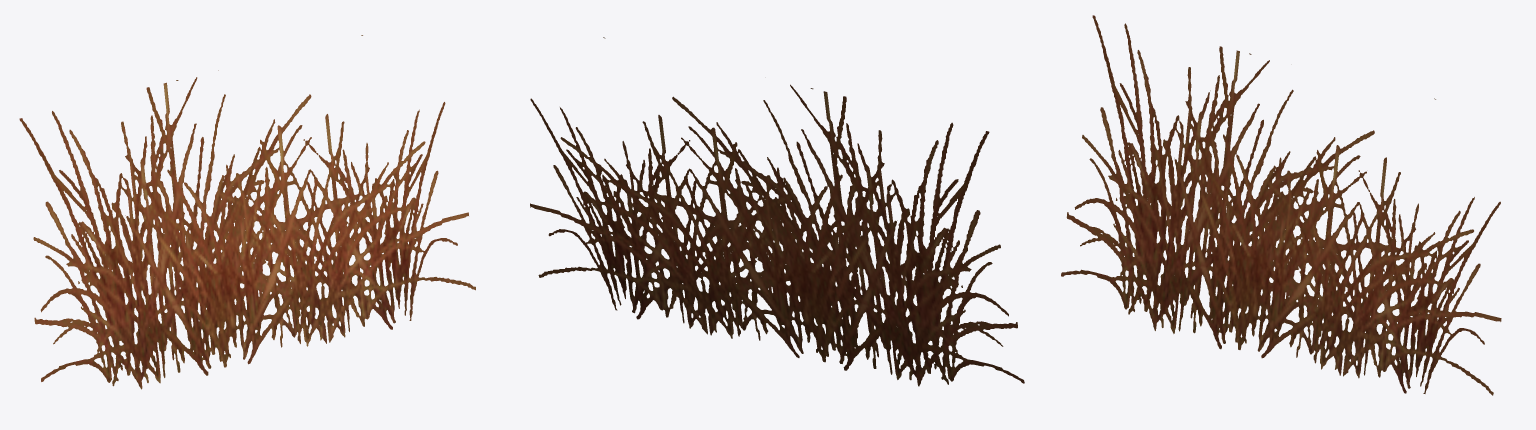
File: yw_xingzilin_hongcao01.FBX
3 renders of one model, left to right at view 1: azimuth 30°, elevation 25°; view 2: azimuth 150°, elevation 25°; view 3: azimuth 330°, elevation 25°, orthographic. The views are drawn at different scales.
Parts seen in each view (by area): view 1: yw_xingzilin_hongcao01; view 2: yw_xingzilin_hongcao01; view 3: yw_xingzilin_hongcao01.
Part boxes in pixels (x1,y1,x2,y2): yw_xingzilin_hongcao01: [19, 35, 475, 389]; yw_xingzilin_hongcao01: [530, 37, 1024, 386]; yw_xingzilin_hongcao01: [1061, 15, 1501, 395].
Bounding box in the file's own units: 110 × 66.62 × 13.26.
